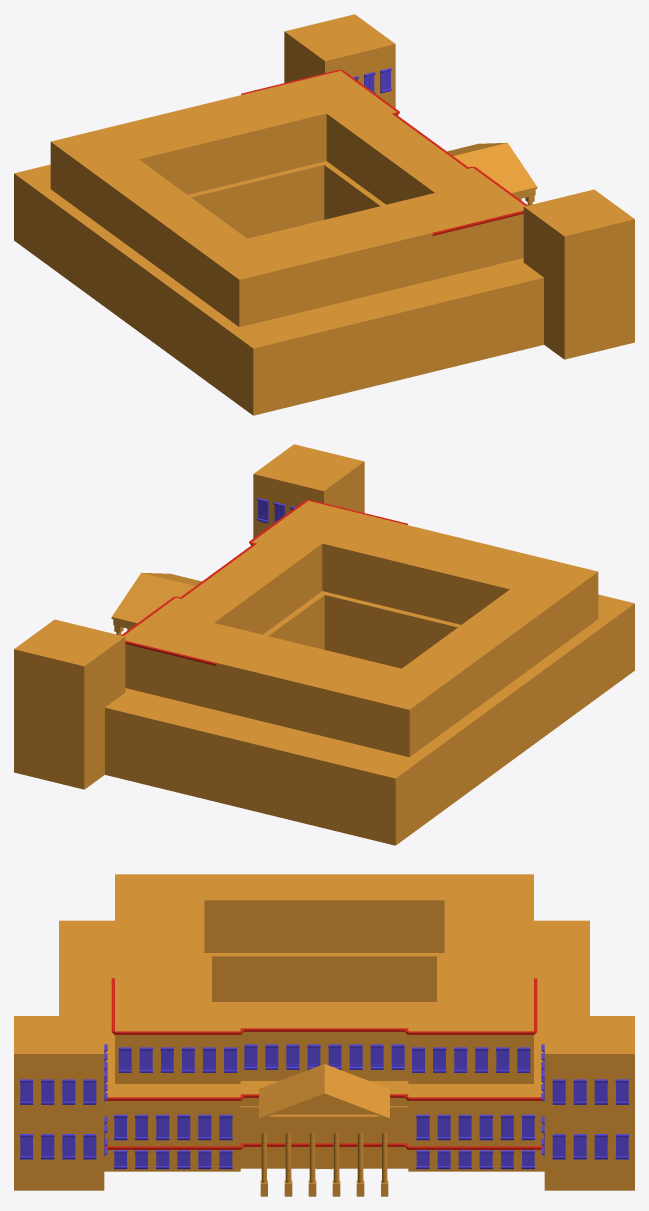
File: Palacio.fbx
3 views of the same model, one above another, from view 1: azimuth 30°, elevation 25°; view 2: azimuth 150°, elevation 25°; view 3: azimuth 270°, elevation 25° (orthographic). The views are drawn at different scales.
Visible parts, largest first — view 1: Palacio_part.008, Palacio_part.003, Palacio_part, Palacio_part.004; view 2: Palacio_part.008, Palacio_part.003, Palacio_part, Palacio_part.004; view 3: Palacio_part.008, Palacio_part.003, Palacio_part.007, Palacio_part, Palacio_part.005, Palacio_part.004, Palacio_part.002, Palacio_part.009.
Boxes of the visible parts, x1,y1,x2,y2 form: Palacio_part.008: (14,71,543,415); Palacio_part.003: (284,14,634,359); Palacio_part: (447,142,537,205); Palacio_part.004: (241,69,527,236); Palacio_part.008: (105,501,634,845); Palacio_part.003: (14,444,364,789); Palacio_part: (111,572,201,635); Palacio_part.004: (121,499,407,666); Palacio_part.008: (59,874,589,1171); Palacio_part.003: (14,1016,634,1190); Palacio_part.007: (114,1044,534,1169); Palacio_part: (259,1064,389,1196); Palacio_part.005: (20,1044,628,1159); Palacio_part.004: (111,978,537,1034); Palacio_part.002: (105,1143,543,1149); Palacio_part.009: (106,1094,542,1100).
Size of the model in its own units: 15919 by 5014 by 20643.
